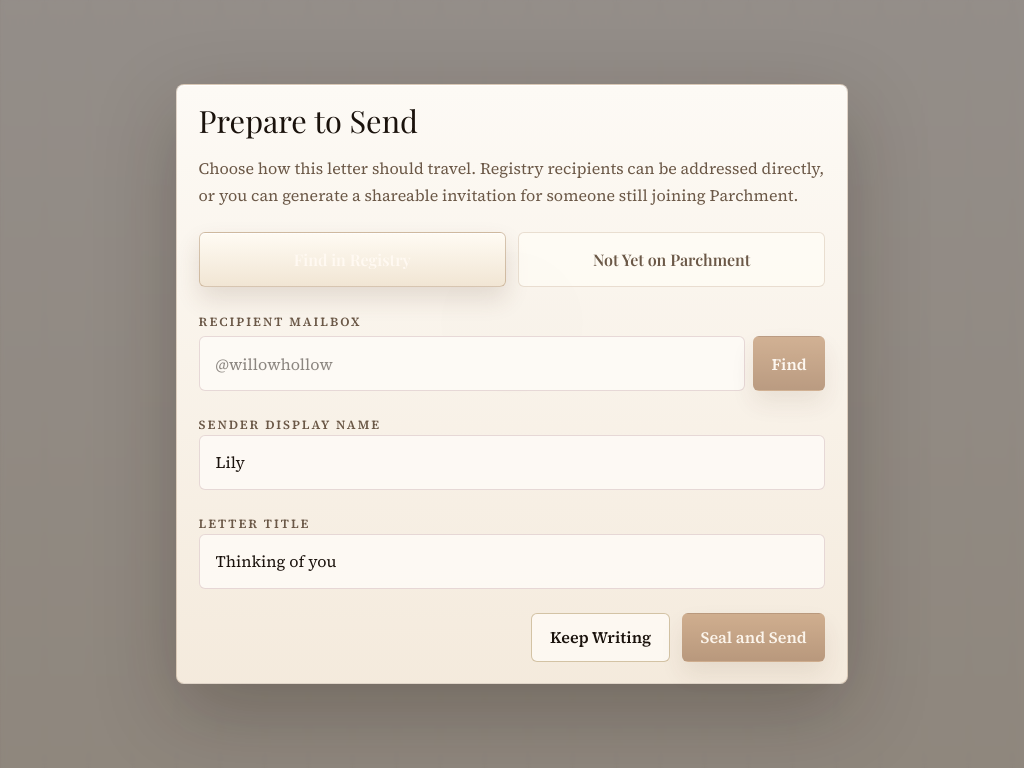
Test case: SendLetterModal › shows gentle address error when registry recipient is not found
In the field with placeholder "@willowhollow": [472, 364] box [199,336,745,391], type "unknown"
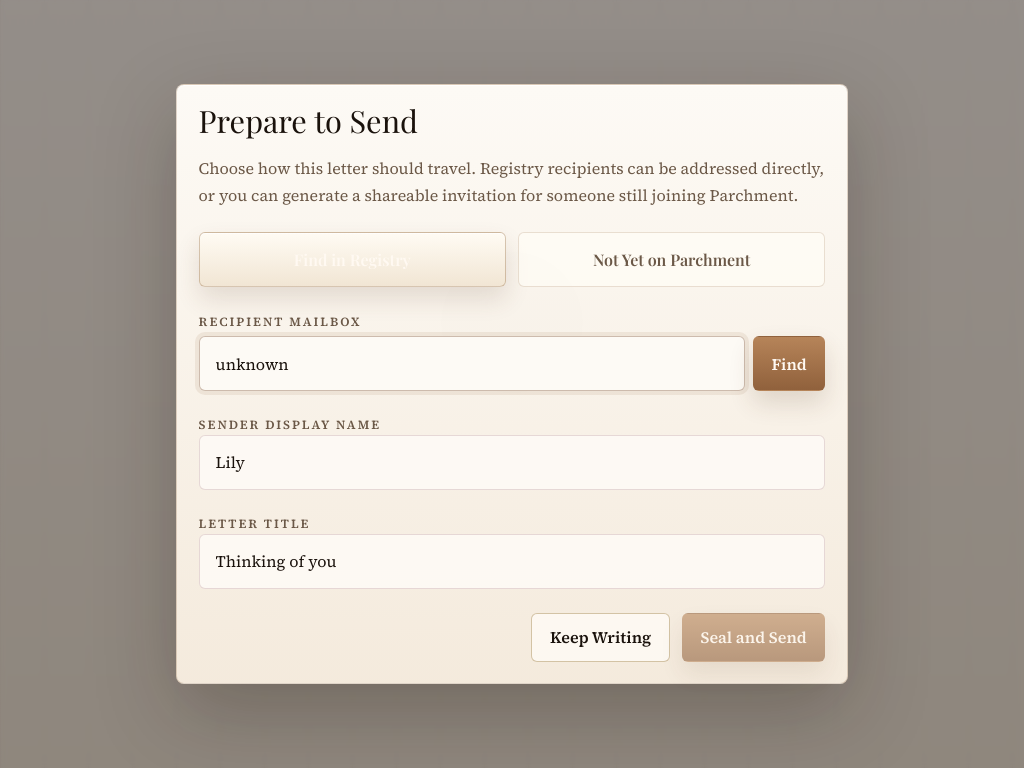
Click the button "Find": [789, 364] box [753,336,825,391]
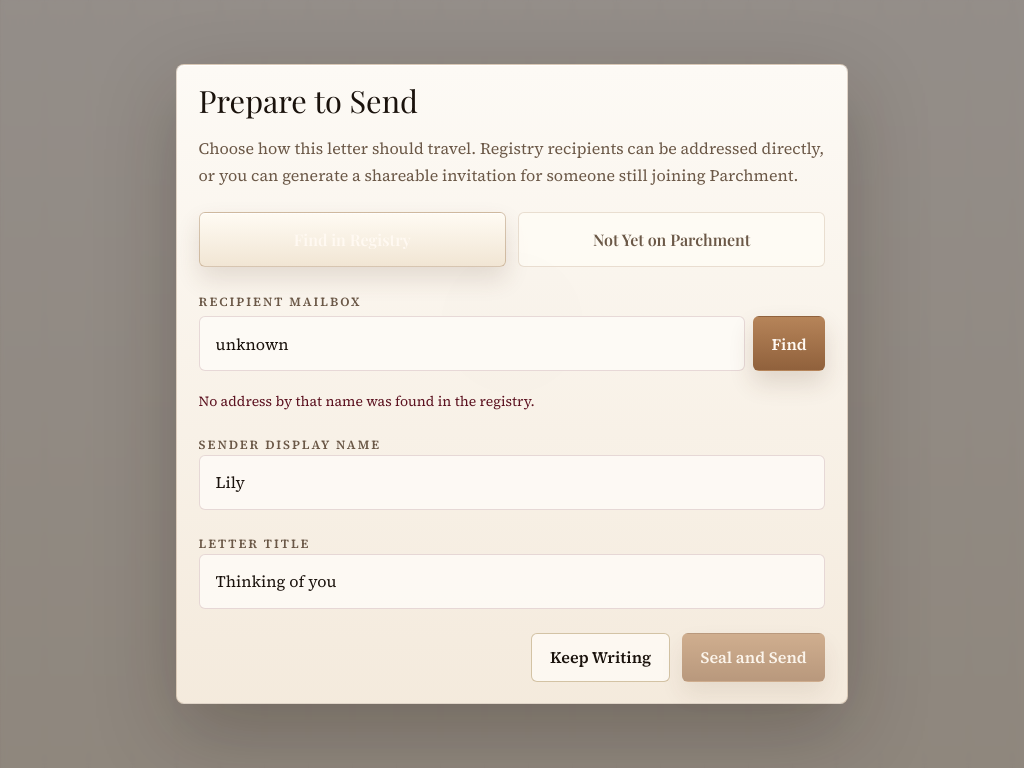
Expected: the text "No address by that name was found in the registry." is shown, [199,391,535,411]
